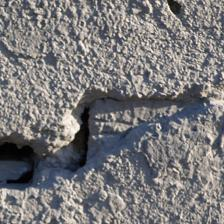Crack: (69, 0, 201, 109), (82, 19, 178, 81)
